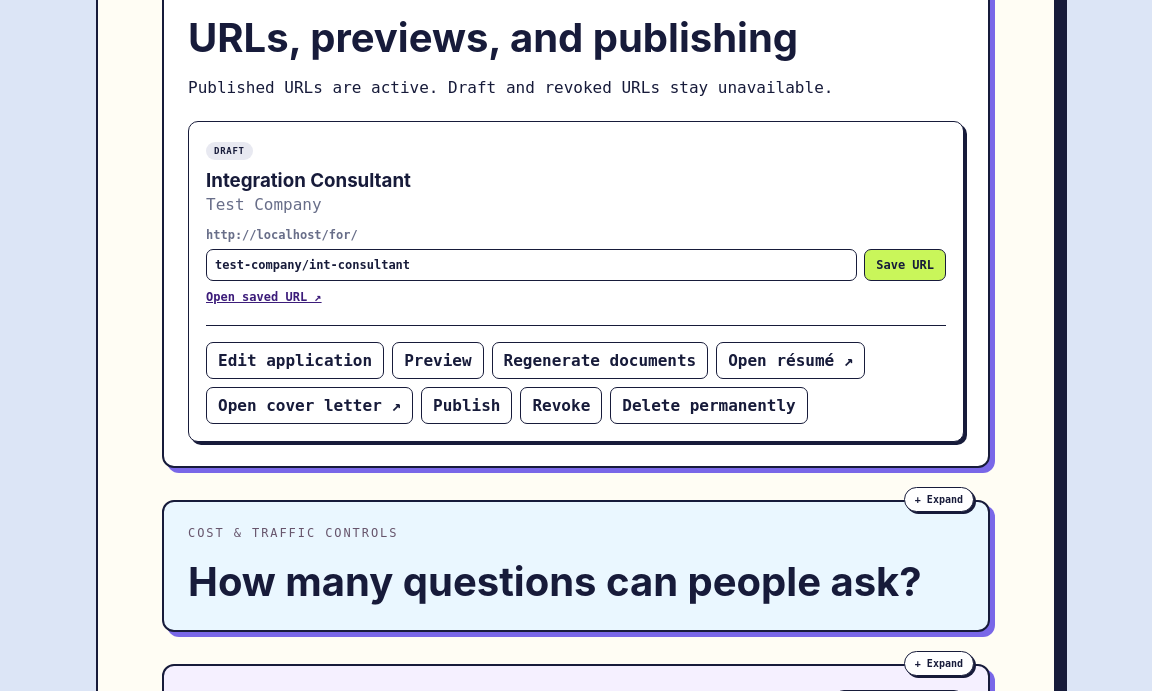
Test: regenerates and opens job-specific documents for review
(page scrolled)
Click the button "Regenerate documents": (600, 361) [492,342,708,379]
(page scrolled)
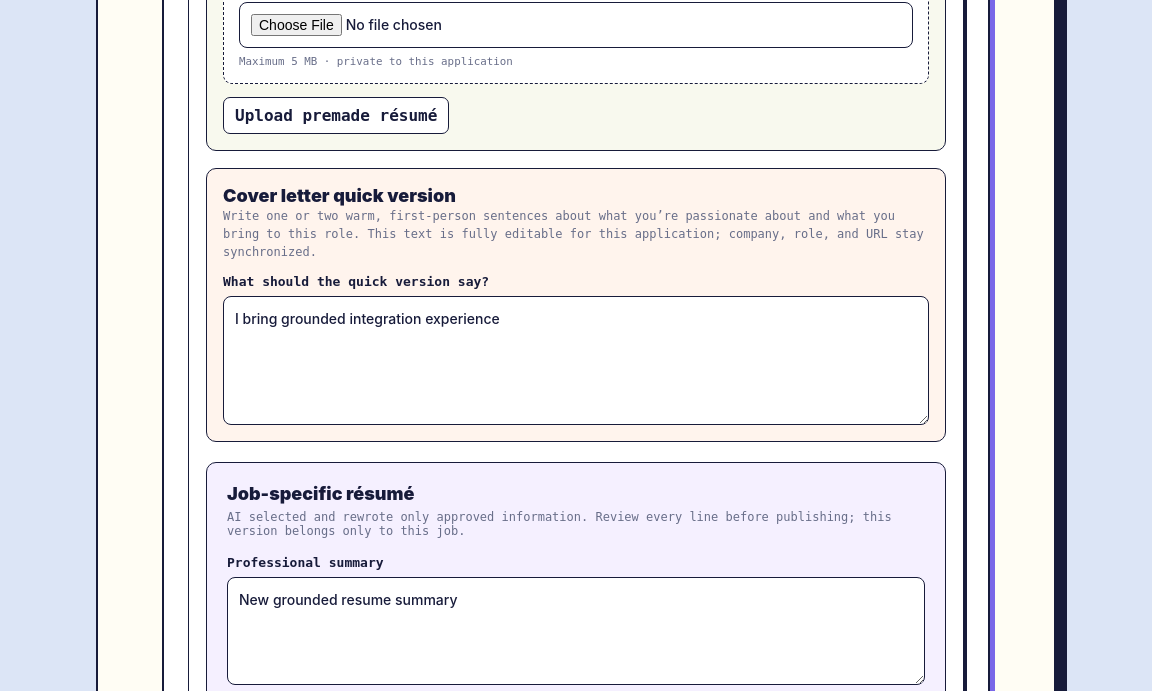
Expected: the text box named "Application resume summary" holds "New grounded resume summary", [227,577,925,685]
Expected: the text box named "Application cover letter pitch" holds "I bring grounded integration experience", [223,296,929,425]
